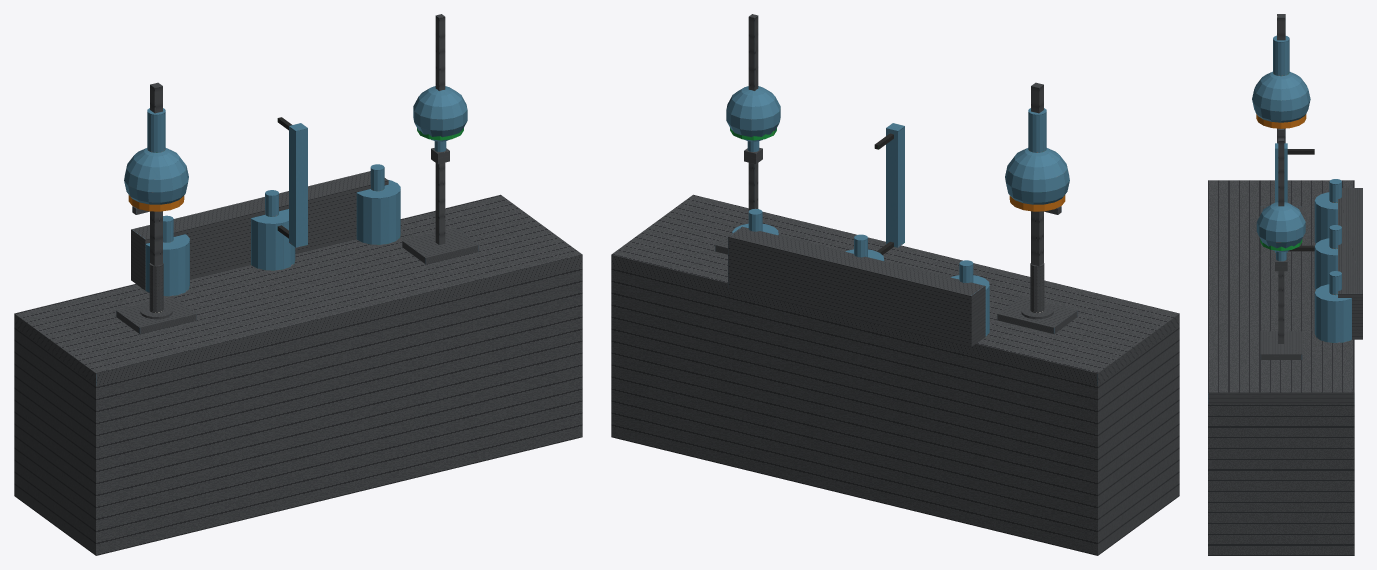
Rendered from prop_chem_synthesis_rig.glb.
3 renders of one model, left to right at view 1: azimuth 30°, elevation 25°; view 2: azimuth 150°, elevation 25°; view 3: azimuth 270°, elevation 25°, orthographic. The views are drawn at different scales.
Visible parts, largest first — view 1: Prop_Chem_Synthesis_Rig; view 2: Prop_Chem_Synthesis_Rig; view 3: Prop_Chem_Synthesis_Rig.
Part boxes in pixels (left/top/right/bottom): Prop_Chem_Synthesis_Rig: left=14, top=14, right=582, bottom=555; Prop_Chem_Synthesis_Rig: left=611, top=14, right=1179, bottom=555; Prop_Chem_Synthesis_Rig: left=1208, top=14, right=1362, bottom=555.
Size of the model in its own units: 2.4 by 1.96 by 0.74.
1 material, 1 textured.
